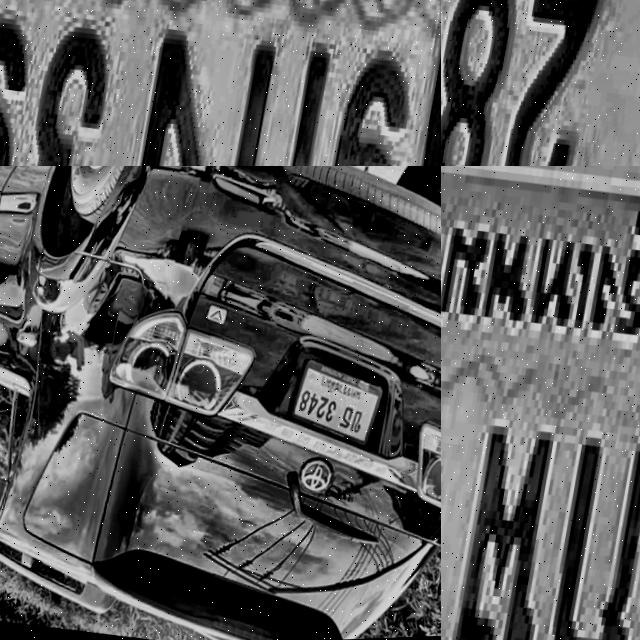license-plate: (441, 166, 640, 640), (0, 0, 441, 166), (441, 0, 640, 166), (288, 350, 389, 457)
